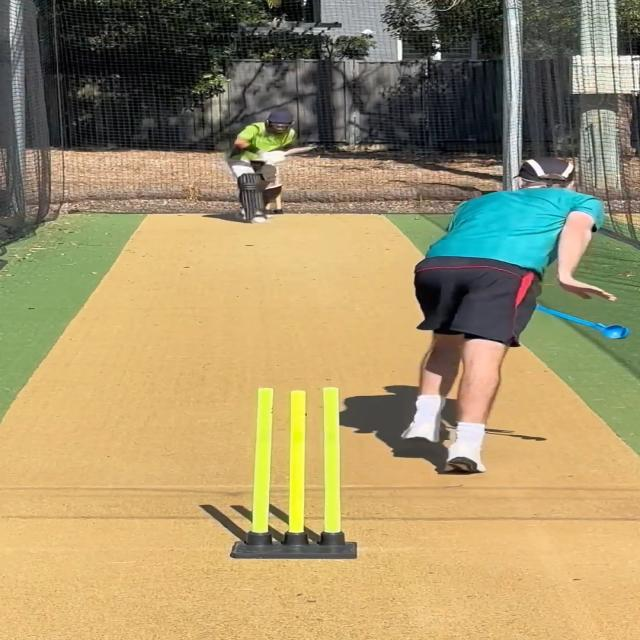ball: (251, 216, 268, 227)
stump: (230, 387, 358, 558)
